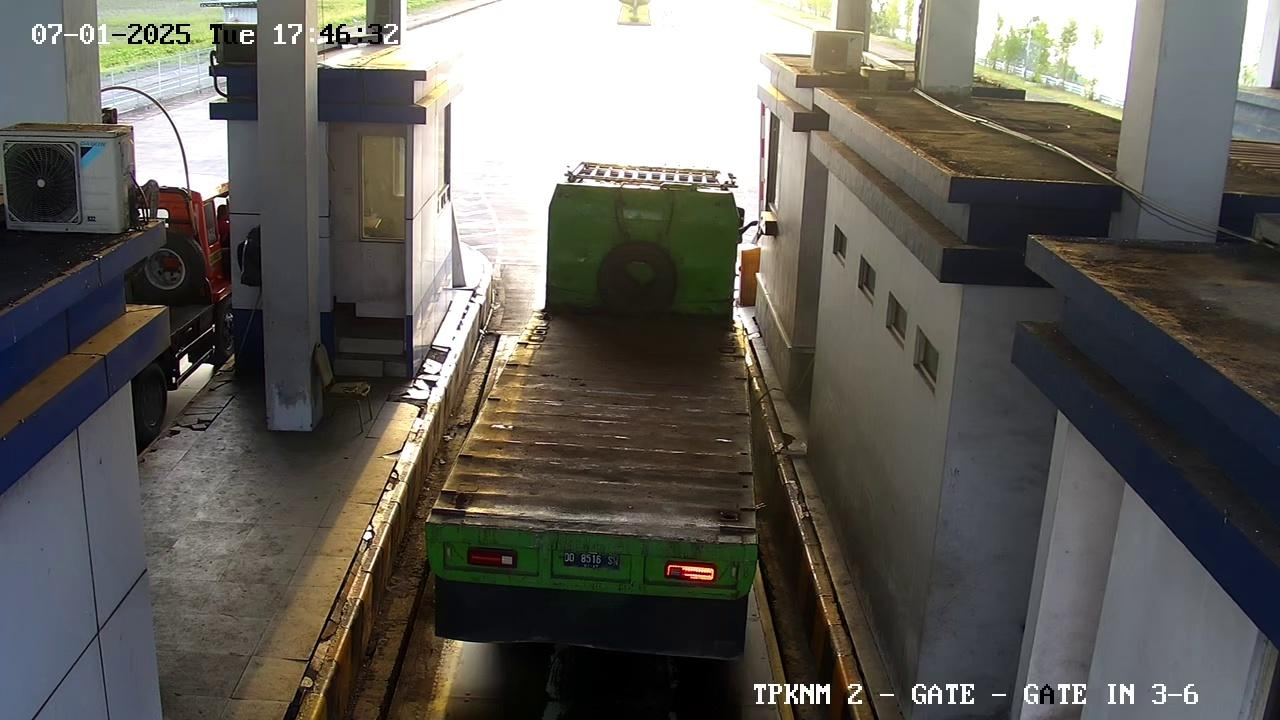plate_number: (542, 538, 648, 583)
